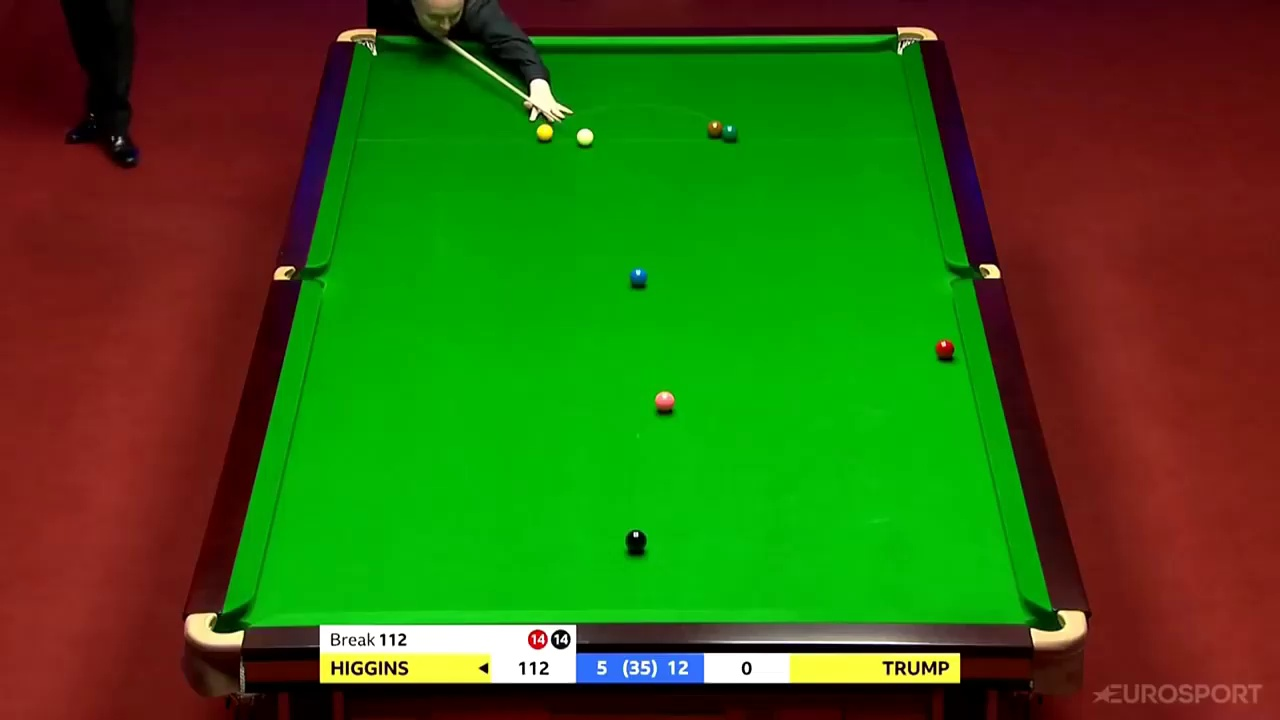ball: (623, 526, 648, 552), (653, 390, 677, 412), (935, 337, 956, 358), (627, 266, 648, 286), (573, 128, 595, 146), (534, 123, 554, 140), (724, 123, 740, 140)
